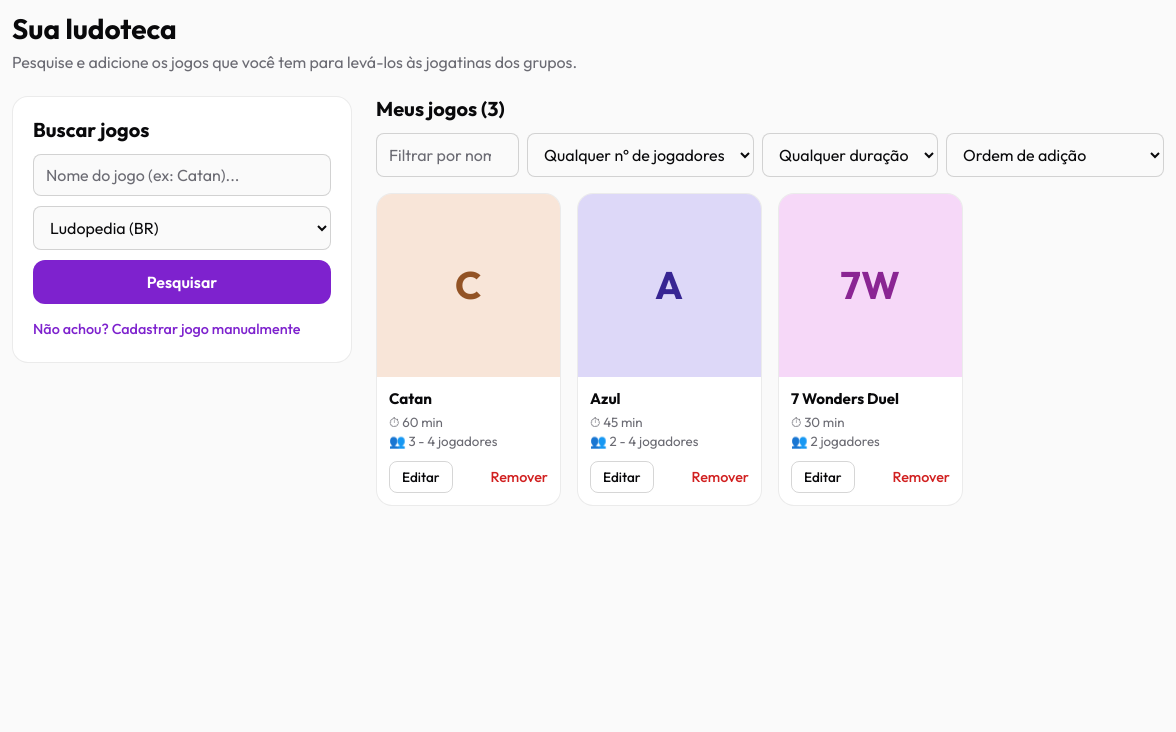
Test: Ludoteca › filtra pelo nome sem diferenciar maiúsculas e avisa quando nada combina
Expected: the heading "Catan" is shown, [389,389,432,408]
Type "AZU" into the search field with placeholder "Filtrar por nome..." at (448, 155), box [376,133,519,177]
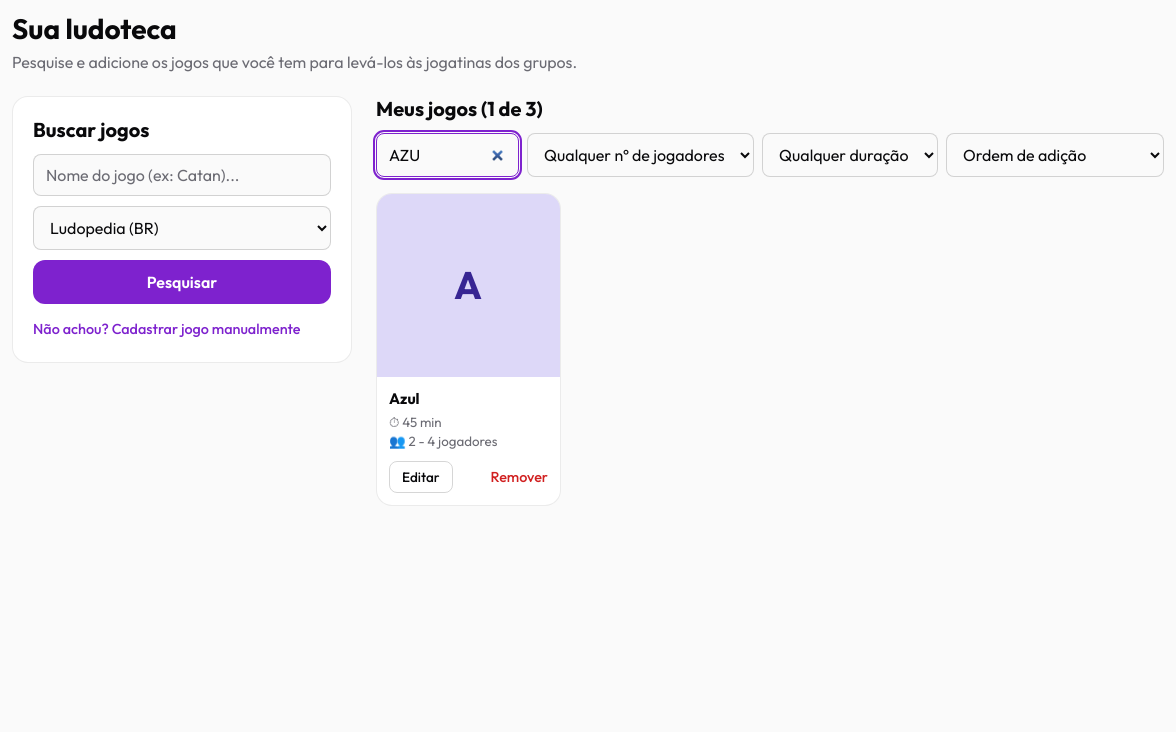
Expected: the heading "Azul" is shown, [389,389,420,408]
Type "xyz" into the search field named "Filtrar por nome" at (448, 155), box [376,133,519,177]
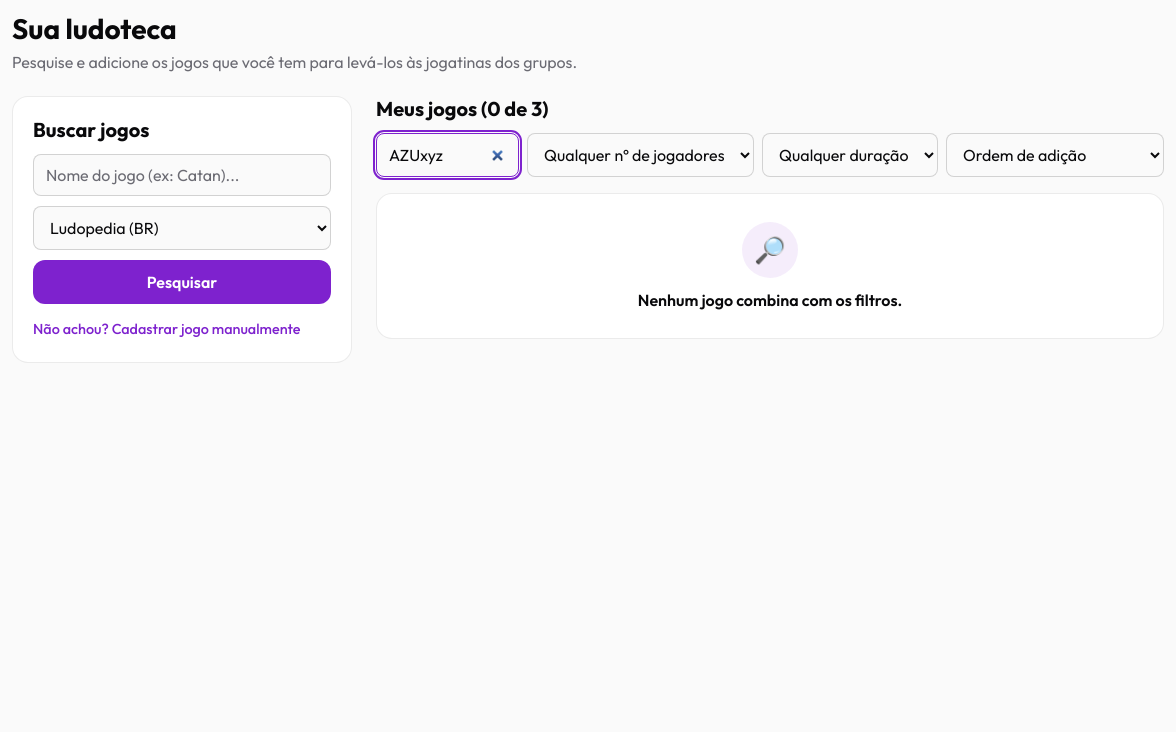
Expected: the text "Nenhum jogo combina com os filtros." is shown, [638,290,902,310]
